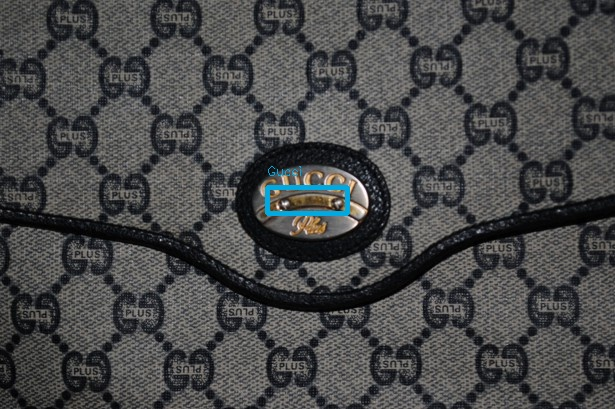Chanel: (242, 164, 369, 238)
